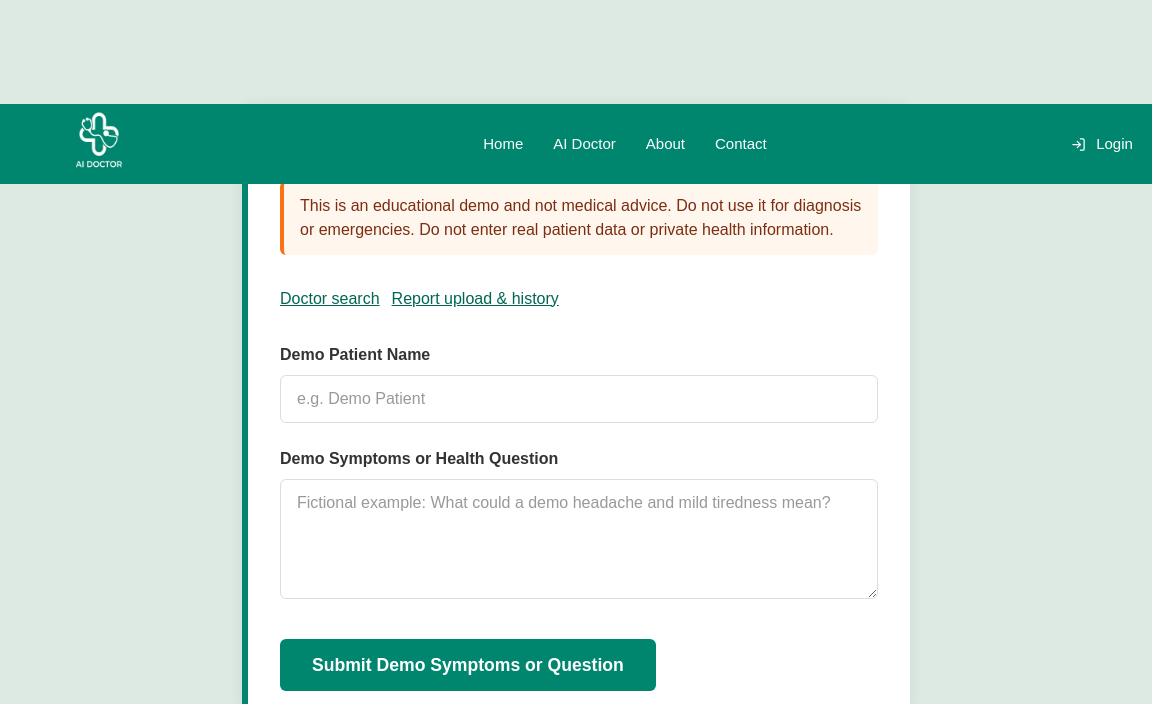
Test: SymptomChecker › does not display an empty API response as guidance
This screenshot has width=1152, height=704.
Type "Demo Patient" into the field labelled "Demo Patient Name" at (579, 399), box [280,375,878,423]
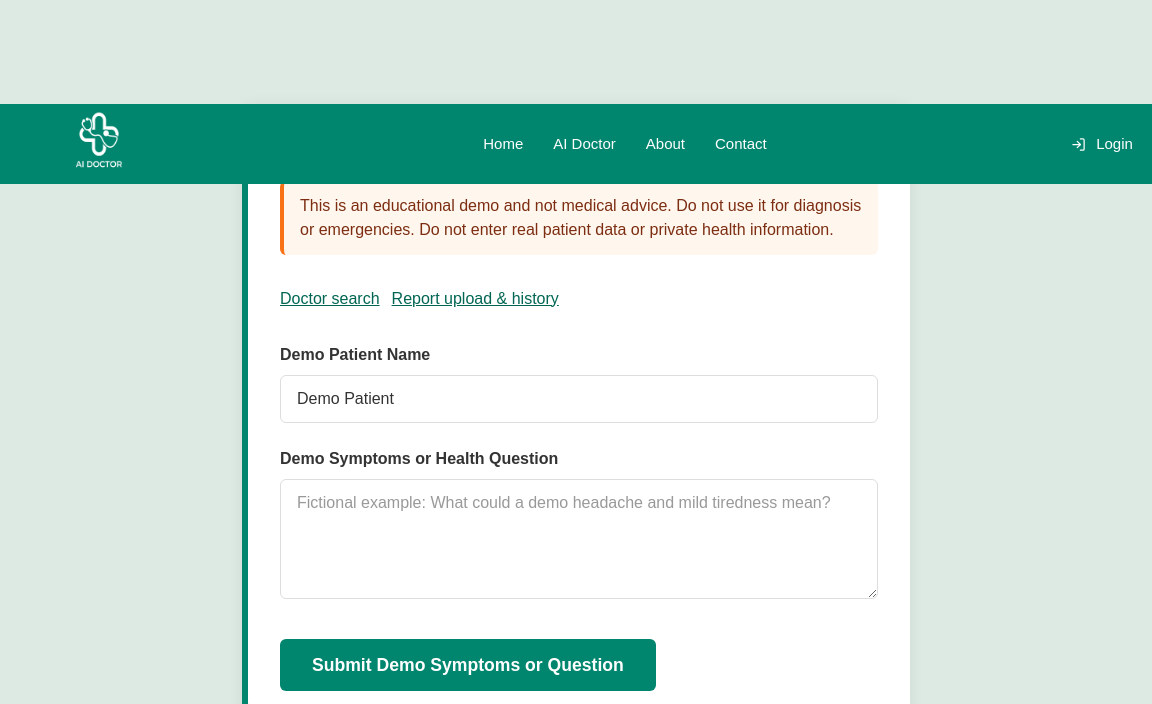
Replace the text in the text box labelled "Demo Symptoms or Health Question" with "Fictional headache" at (579, 539), box [280,479,878,599]
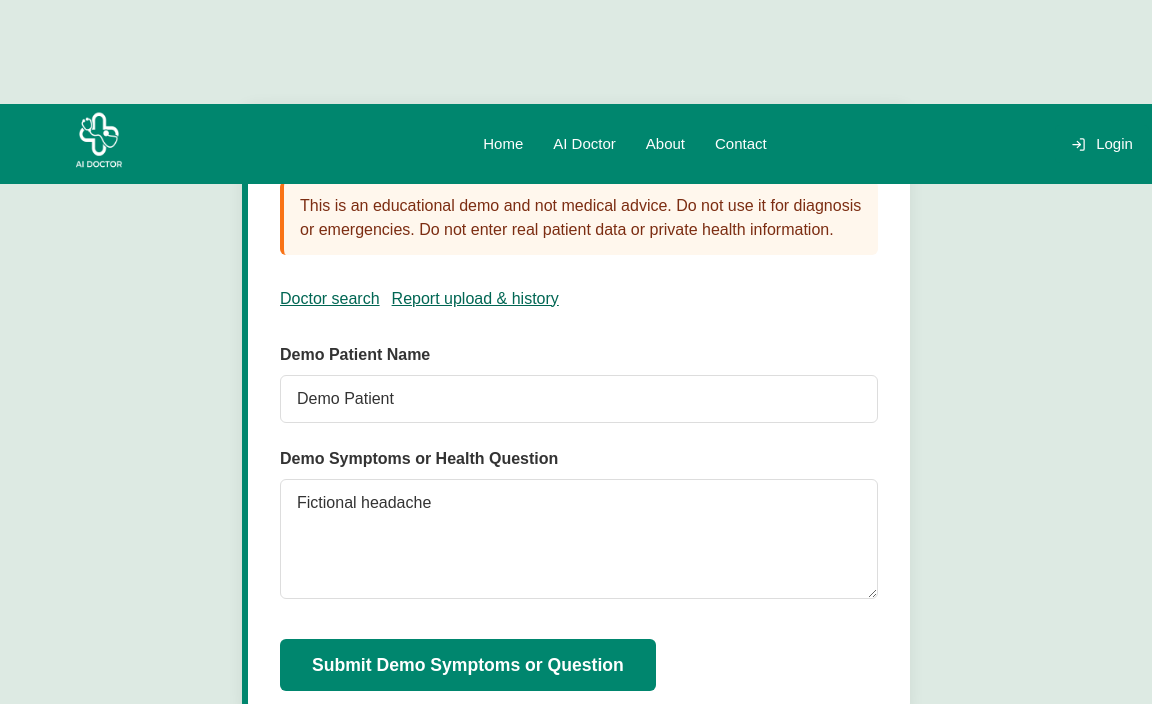
Click the button "Submit Demo Symptoms or Question" at (468, 665), box [280,639,656,691]
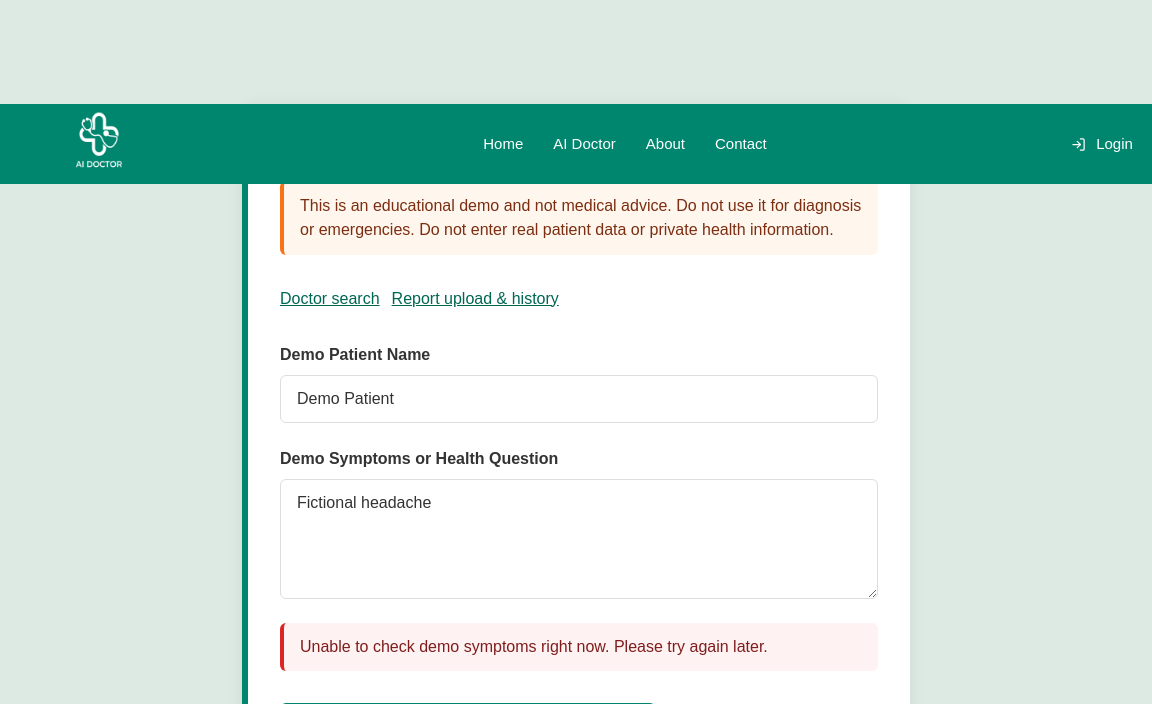
Expected: the message shows "Unable to check", [300,638,768,655]
